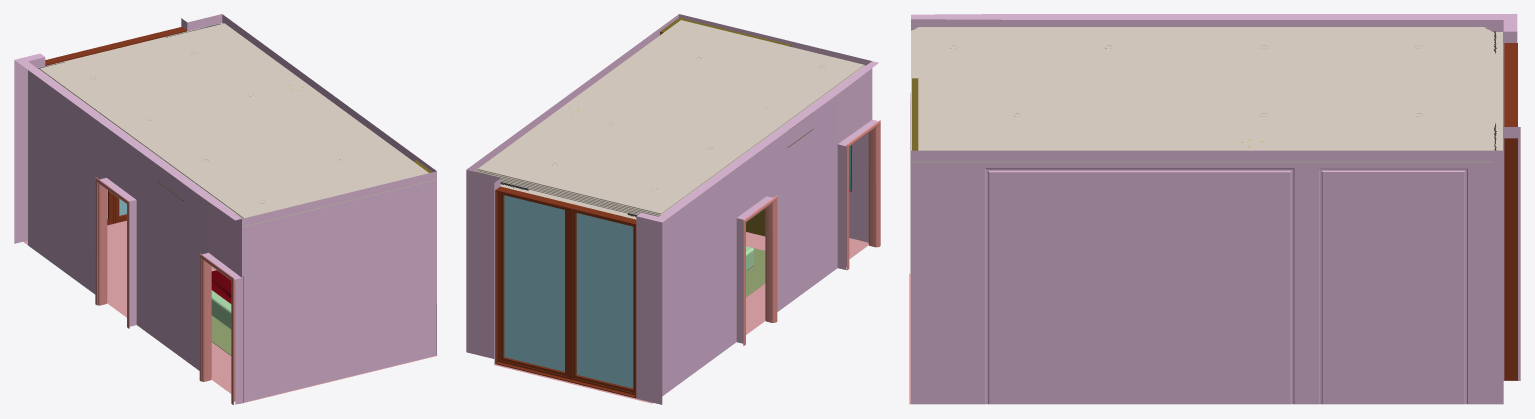
File: Bedroom1_V1.fbx
The picture shows the model from 3 angles, left to right: view 1: azimuth 30°, elevation 25°; view 2: azimuth 150°, elevation 25°; view 3: azimuth 270°, elevation 25°; orthographic projection. The views are drawn at different scales.
Visible parts, largest first — view 1: Walls and Floor, Ceiling, Door Frame, Window Frame, Bed, Bed Carpet; view 2: Walls and Floor, Ceiling, Window Glass, Window Frame, Door Frame, Wardrobe, Bed Carpet; view 3: Walls and Floor, Ceiling, Window Frame.
Part boxes in pixels (bbox=[...]): Walls and Floor: bbox=[14, 14, 437, 404]; Ceiling: bbox=[32, 23, 436, 227]; Door Frame: bbox=[95, 177, 243, 404]; Window Frame: bbox=[45, 27, 187, 225]; Bed: bbox=[211, 270, 231, 329]; Bed Carpet: bbox=[211, 316, 231, 355]; Walls and Floor: bbox=[466, 14, 878, 404]; Ceiling: bbox=[474, 20, 865, 221]; Window Glass: bbox=[504, 195, 633, 388]; Window Frame: bbox=[495, 186, 636, 398]; Door Frame: bbox=[743, 120, 880, 345]; Wardrobe: bbox=[659, 17, 791, 236]; Bed Carpet: bbox=[746, 248, 765, 297]; Walls and Floor: bbox=[909, 14, 1520, 404]; Ceiling: bbox=[911, 27, 1502, 162]; Window Frame: bbox=[1504, 43, 1517, 380].
Size of the model in its own units: 352 by 304 by 663.
